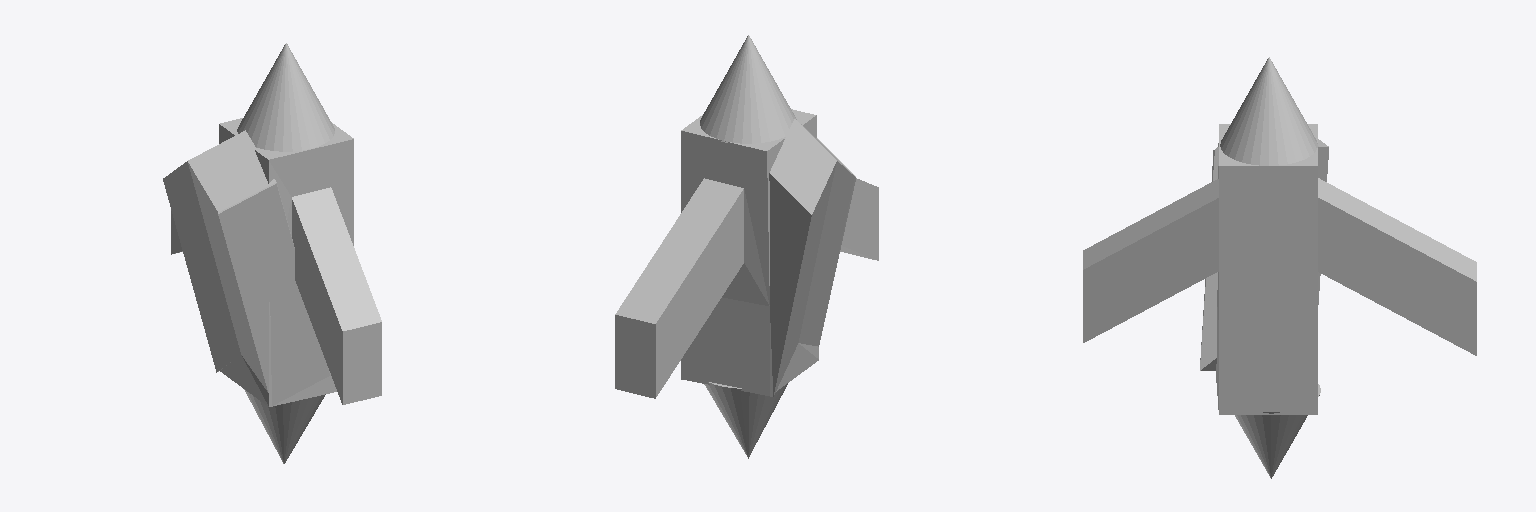
Rendered from Bigrocket.obj.
3 renders of one model, left to right at view 1: azimuth 30°, elevation 25°; view 2: azimuth 150°, elevation 25°; view 3: azimuth 270°, elevation 25°, orthographic.
Parts seen in each view (by area): view 1: Cone; view 2: Cone; view 3: Cone.
Boxes of the visible parts, box(x1,y1,x2,y2) form: Cone: box(163, 43, 381, 463); Cone: box(615, 35, 878, 458); Cone: box(1083, 57, 1476, 478).
Size of the model in its own units: 3.21 by 9.42 by 7.96.